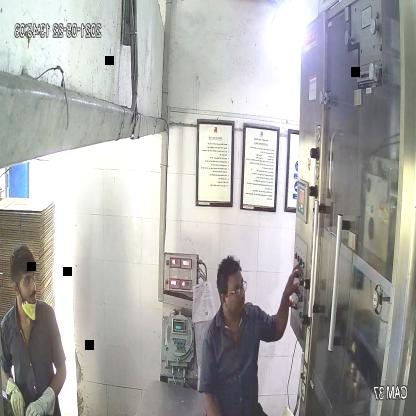goggles: (219, 279, 248, 301)
no_goggles: (16, 273, 36, 288)
